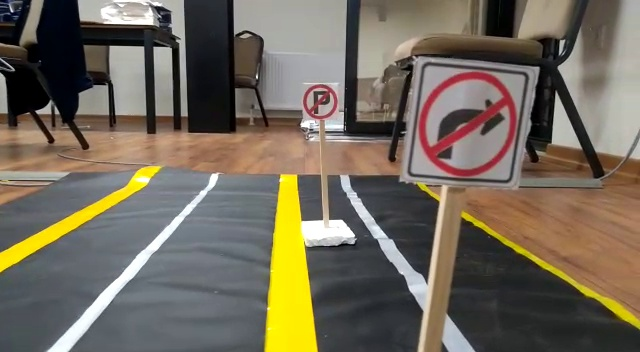park_yapilmaz: (301, 80, 340, 118)
saga_donulmez: (418, 71, 520, 177)
